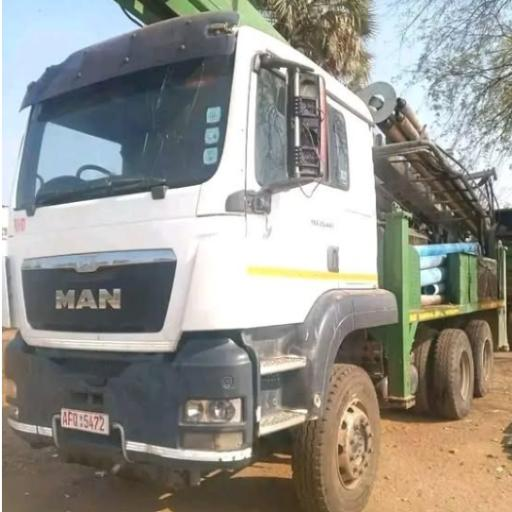number-plates: (57, 405, 116, 437)
